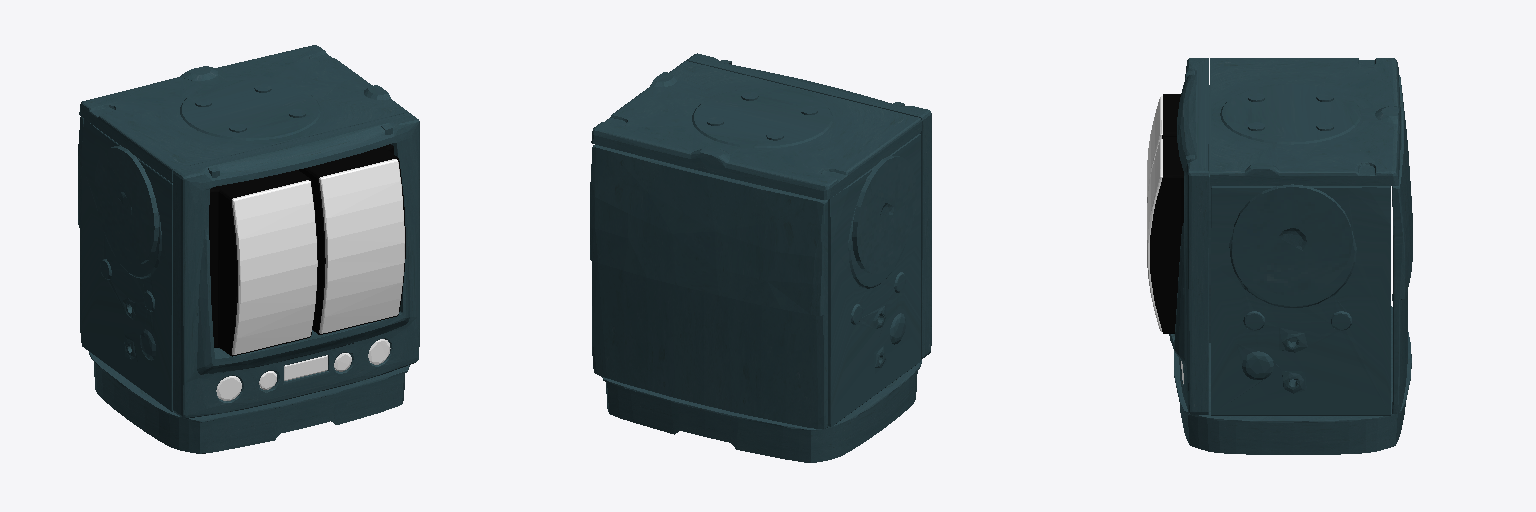
3 renders of one model, left to right at view 1: azimuth 30°, elevation 25°; view 2: azimuth 150°, elevation 25°; view 3: azimuth 270°, elevation 25°, orthographic.
Parts seen in each view (by area): view 1: torzo_11696_robot_v1_L3.005; view 2: torzo_11696_robot_v1_L3.005; view 3: torzo_11696_robot_v1_L3.005.
Boxes of the visible parts, x1=… form: torzo_11696_robot_v1_L3.005: x1=78, y1=45, x2=419, y2=453; torzo_11696_robot_v1_L3.005: x1=590, y1=53, x2=931, y2=462; torzo_11696_robot_v1_L3.005: x1=1147, y1=58, x2=1412, y2=454.
Bounding box in the file's own units: 0.1099 × 0.1214 × 0.1013.
4 materials, 1 textured.